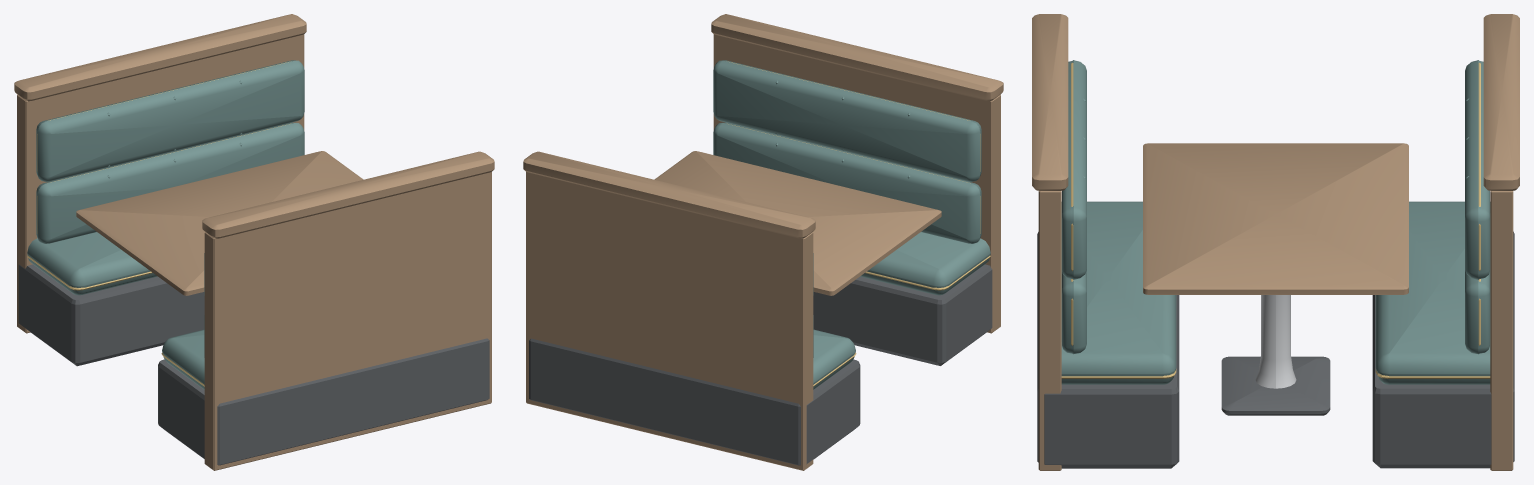
File: restaurant-kitchen-and-dining-booth-4-cover-31918298.glb
3 renders of one model, left to right at view 1: azimuth 30°, elevation 25°; view 2: azimuth 150°, elevation 25°; view 3: azimuth 270°, elevation 25°, orthographic. The views are drawn at different scales.
Visible parts, largest first — view 1: booth-4-cover; view 2: booth-4-cover; view 3: booth-4-cover.
Boxes of the visible parts, x1=… form: booth-4-cover: x1=14, y1=14, x2=494, y2=470; booth-4-cover: x1=523, y1=14, x2=1003, y2=470; booth-4-cover: x1=1032, y1=14, x2=1519, y2=470.
Size of the model in its own units: 1.52 by 1.26 by 1.89.
